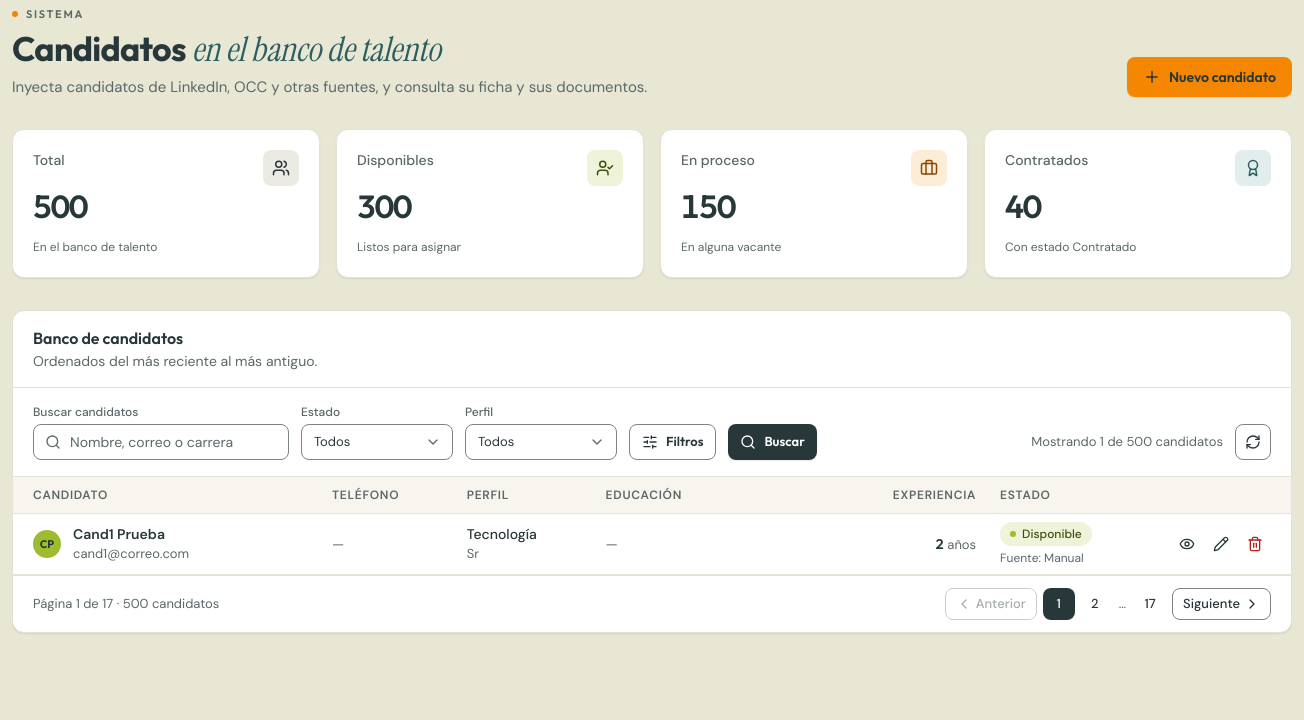
Test: /admin/candidates › ADM-016: las tarjetas cuentan el banco completo y el paginador pide la página 2
The width and height of the screenshot is (1304, 720).
Expected: the text "Mostrando 1 de 500 candidatos" is shown, [1031, 432, 1223, 452]
Expected: the text "500" is shown, [33, 186, 87, 226]
Click the button "Siguiente" at (1222, 604), box [1172, 588, 1271, 620]
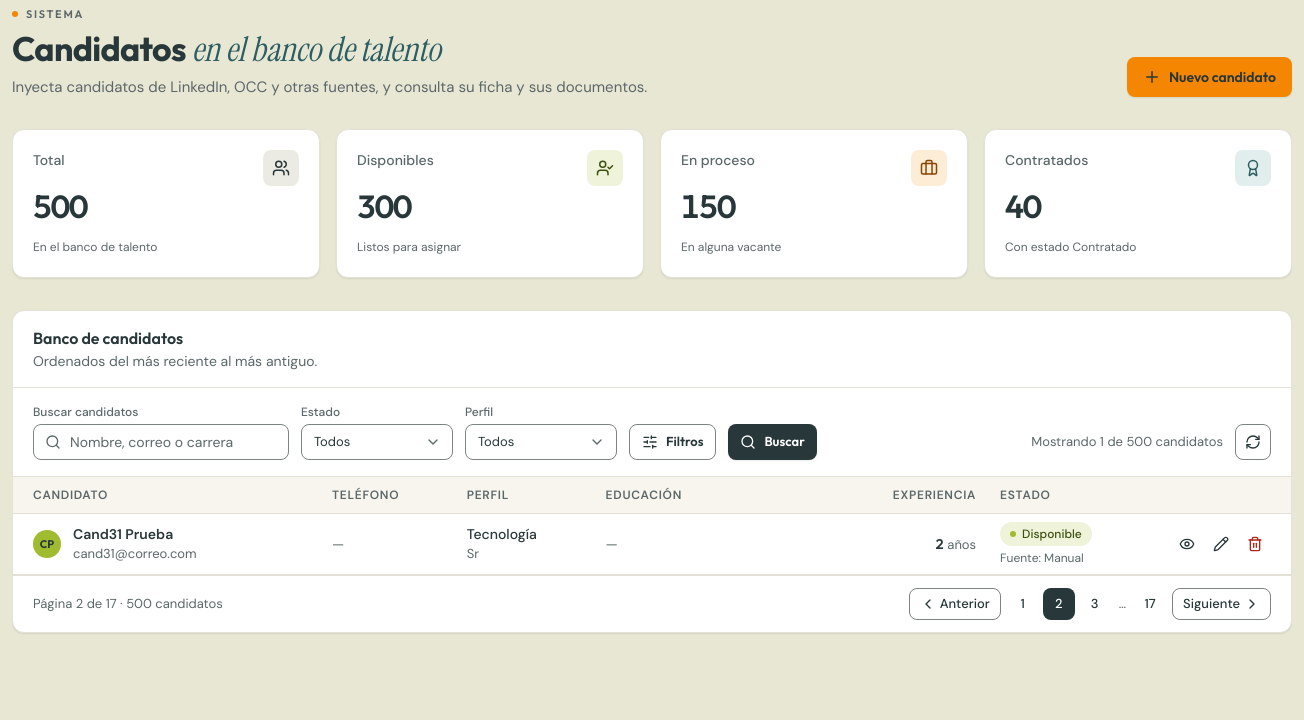
Expected: the text "Cand31 Prueba" is shown, [73, 525, 173, 543]
